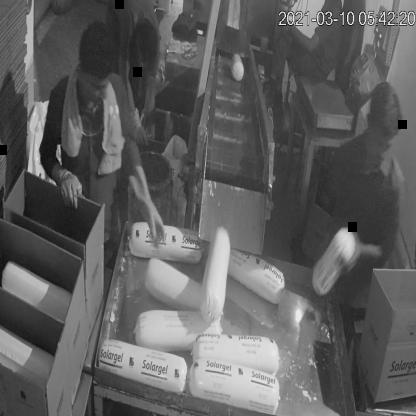glove: (122, 155, 174, 250), (47, 156, 86, 216)
no_glove: (336, 224, 391, 285), (282, 18, 322, 62)
